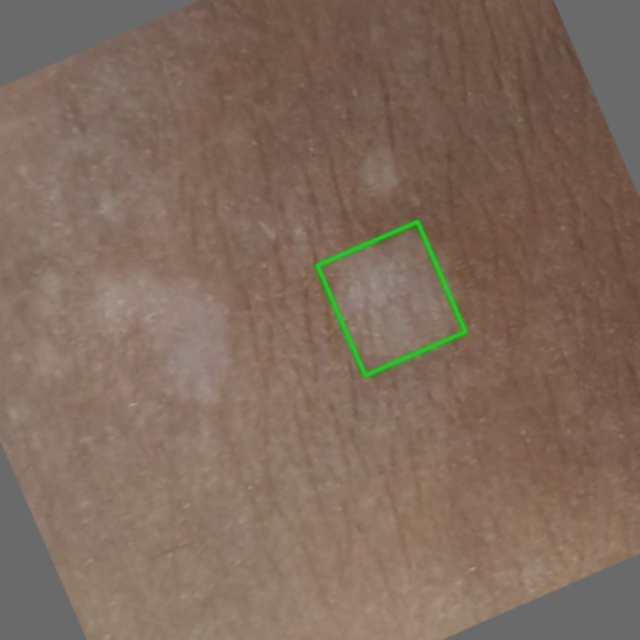Eczema: (317, 221, 465, 375)
